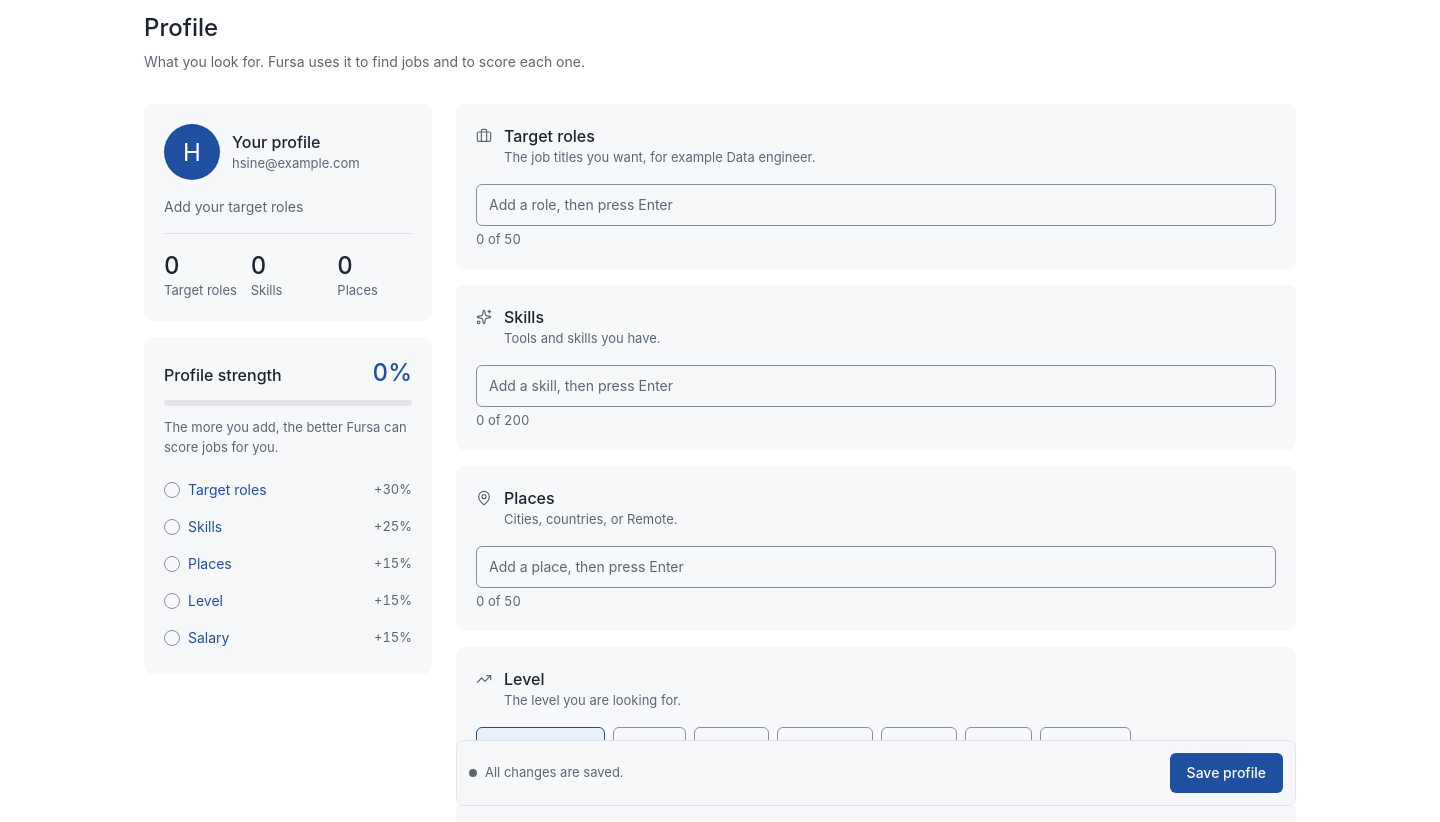
it: profile page design › says when everything is saved, then offers Save and Discard once something changed
The image size is (1440, 822).
Check: the text "All changes are saved." is shown, box x1=469 y1=764 x2=624 y2=780
Check: the button "Discard changes" is not shown
Type "Designer," into the field named "Target roles" at {"x": 876, "y": 205}, box x1=481 y1=189 x2=1271 y2=221
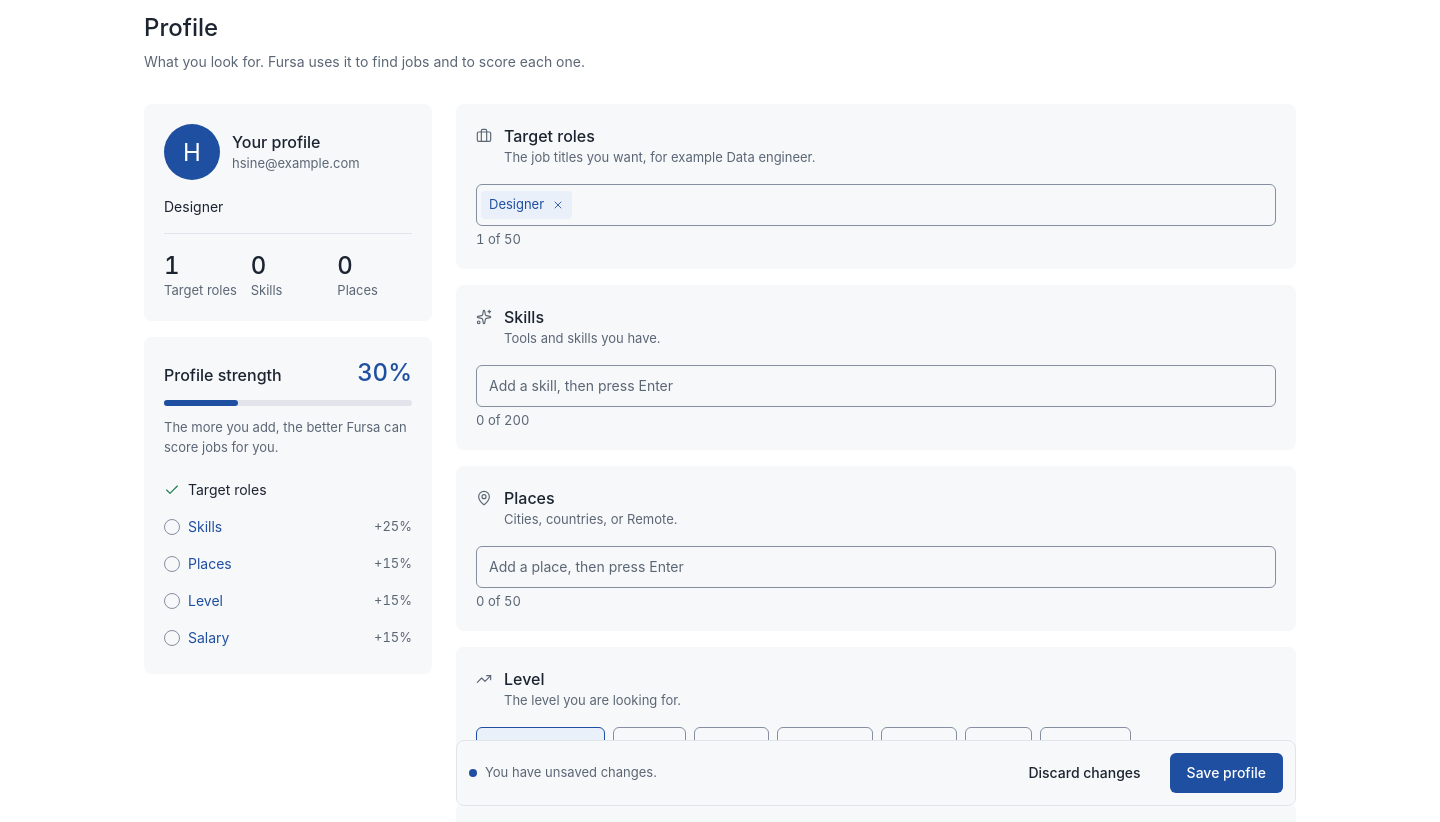
Check: the text "You have unsaved changes." is shown, box x1=469 y1=764 x2=657 y2=780
Click the button "Discard changes" at {"x": 1084, "y": 773}, box x1=1011 y1=753 x2=1158 y2=793
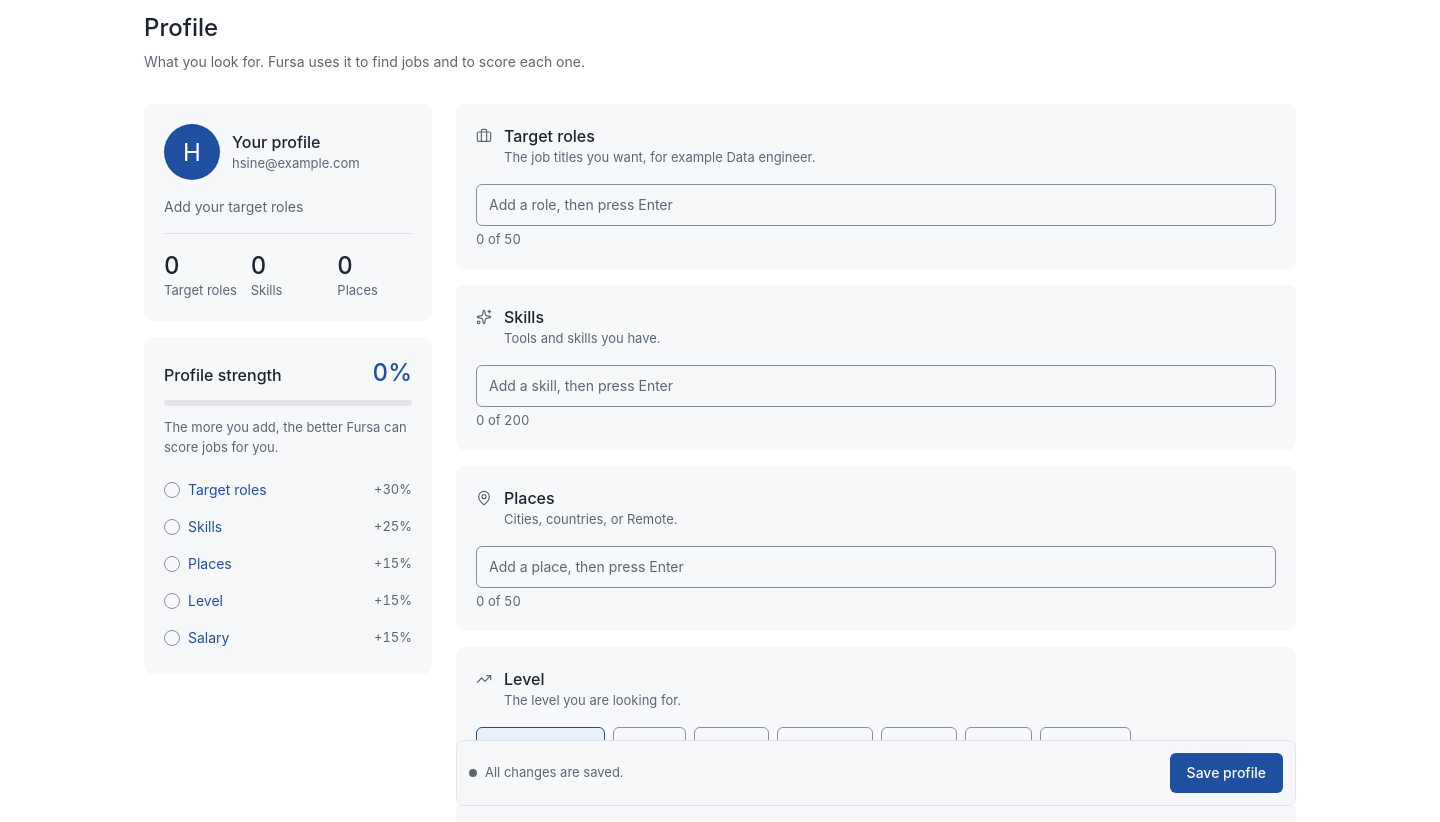
Check: the text "All changes are saved." is shown, box x1=469 y1=764 x2=624 y2=780
Check: the text "Designer" is gone
